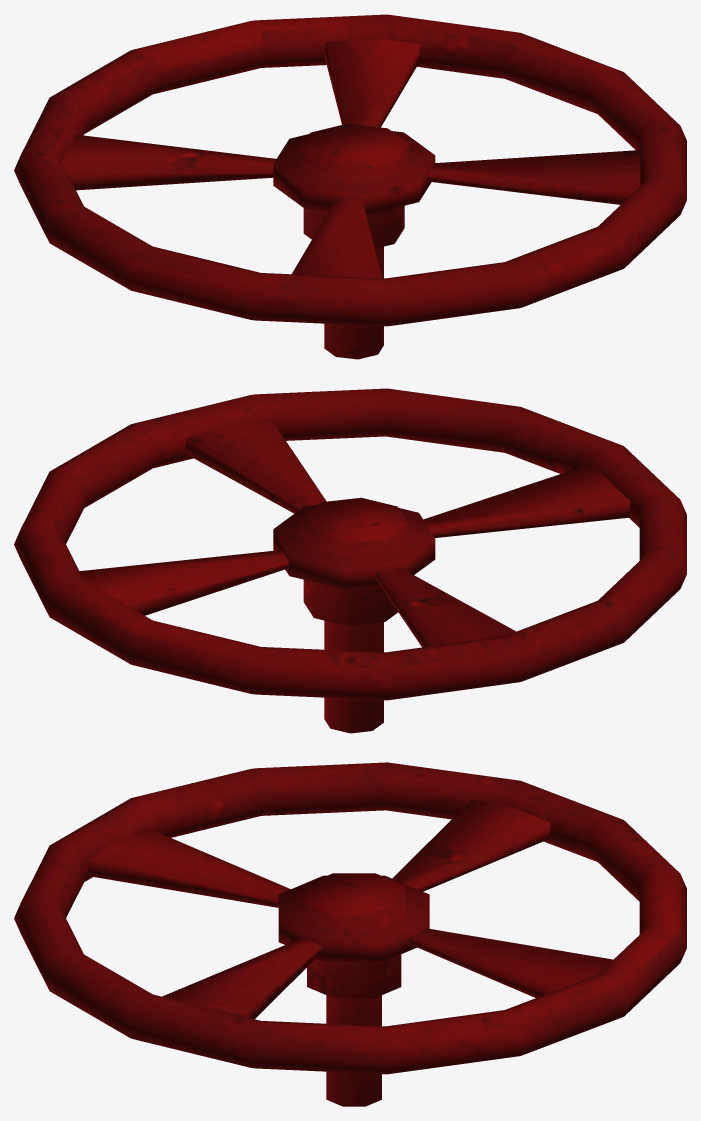
File: Handwheel B.fbx
3 views of the same model, one above another, from view 1: azimuth 30°, elevation 25°; view 2: azimuth 150°, elevation 25°; view 3: azimuth 270°, elevation 25° (orthographic).
Parts seen in each view (by area): view 1: Handwheel B; view 2: Handwheel B; view 3: Handwheel B.
Part boxes in pixels (left/top/right/bottom): Handwheel B: left=14, top=14, right=686, bottom=359; Handwheel B: left=14, top=388, right=686, bottom=733; Handwheel B: left=14, top=762, right=686, bottom=1106.
Bounding box in the file's own units: 38.47 × 12.55 × 38.26.
